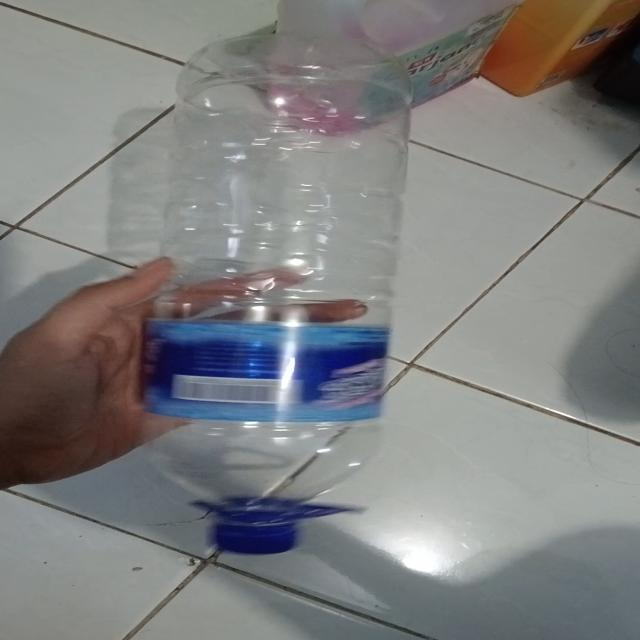Botol bekas: (140, 26, 415, 550)
